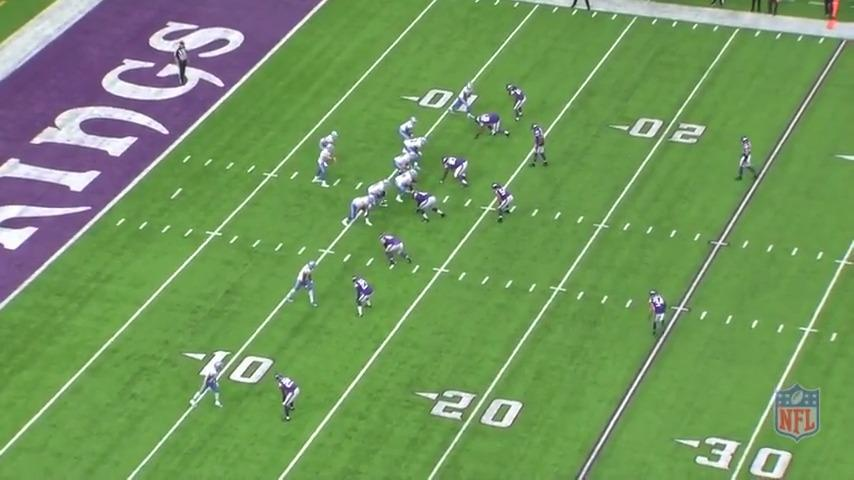player: (188, 356, 227, 413), (284, 259, 320, 309), (273, 370, 302, 425), (378, 232, 418, 271), (736, 134, 764, 184), (343, 194, 380, 230), (411, 188, 446, 224), (649, 289, 672, 341), (314, 136, 336, 189), (492, 180, 516, 226), (442, 153, 473, 188), (353, 273, 377, 318), (448, 82, 476, 120), (528, 120, 548, 169), (474, 110, 509, 138), (393, 170, 422, 203), (367, 178, 393, 212), (319, 129, 340, 169), (507, 82, 527, 123), (402, 134, 429, 161), (398, 114, 421, 145), (390, 150, 419, 174)
ref: (175, 37, 192, 86), (569, 0, 595, 14)
